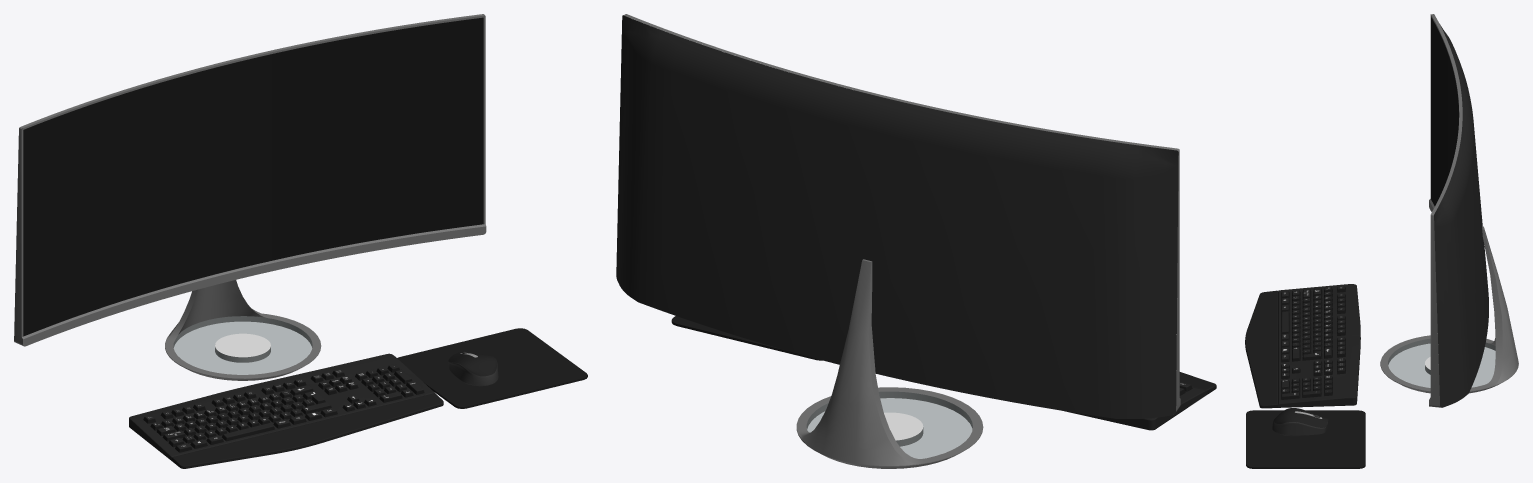
3 renders of one model, left to right at view 1: azimuth 30°, elevation 25°; view 2: azimuth 150°, elevation 25°; view 3: azimuth 270°, elevation 25°, orthographic. The views are drawn at different scales.
Visible parts, largest first — view 1: 3507, 3530, 3429, 3493, 3552, 3437, 3541, 3471, 3455; view 2: 3519, 3530, 3552, 3429, 3493, 3541; view 3: 3519, 3429, 3493, 3530, 3507, 3437, 3552, 3471, 3455.
Part boxes in pixels (x1=…): 3507: x1=23, y1=17, x2=483, y2=336; 3530: x1=14, y1=14, x2=486, y2=380; 3429: x1=129, y1=353, x2=434, y2=460; 3493: x1=397, y1=328, x2=587, y2=408; 3552: x1=174, y1=316, x2=312, y2=374; 3437: x1=171, y1=393, x2=443, y2=468; 3541: x1=215, y1=333, x2=270, y2=357; 3471: x1=448, y1=352, x2=496, y2=376; 3455: x1=448, y1=351, x2=498, y2=386; 3519: x1=616, y1=15, x2=1178, y2=418; 3530: x1=622, y1=14, x2=1180, y2=468; 3552: x1=807, y1=392, x2=972, y2=458; 3429: x1=1064, y1=382, x2=1206, y2=430; 3493: x1=671, y1=316, x2=822, y2=360; 3541: x1=884, y1=412, x2=923, y2=440; 3519: x1=1430, y1=14, x2=1488, y2=407; 3429: x1=1278, y1=284, x2=1360, y2=407; 3493: x1=1246, y1=410, x2=1365, y2=468; 3530: x1=1380, y1=14, x2=1518, y2=407; 3507: x1=1431, y1=17, x2=1459, y2=205; 3437: x1=1245, y1=290, x2=1277, y2=408; 3552: x1=1388, y1=339, x2=1495, y2=387; 3471: x1=1274, y1=408, x2=1328, y2=427; 3455: x1=1272, y1=415, x2=1327, y2=436.
Size of the model in its own units: 1.14 by 0.6681 by 0.6514.
11 materials, 1 textured.
